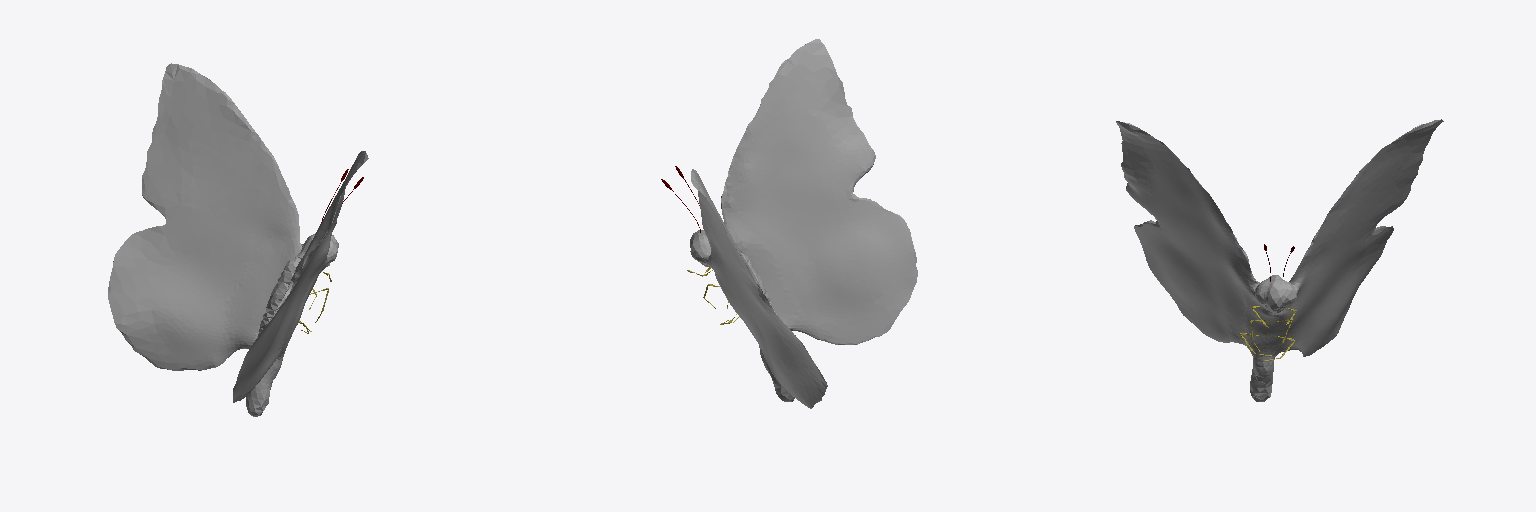
The picture shows the model from 3 angles: view 1: azimuth 30°, elevation 25°; view 2: azimuth 150°, elevation 25°; view 3: azimuth 270°, elevation 25°; orthographic projection.
Visible parts, largest first — view 1: mmGroup0; view 2: mmGroup0; view 3: mmGroup0.
Boxes of the visible parts, box(x1,y1,x2,y2) form: mmGroup0: box(108, 63, 368, 416); mmGroup0: box(690, 39, 917, 408); mmGroup0: box(1116, 119, 1443, 401).
Bounding box in the file's own units: 7.44 × 10.65 × 10.53.
4 materials, 1 textured.